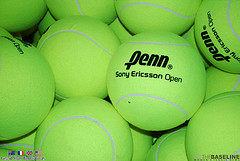tennis ball: (106, 30, 210, 134), (35, 15, 123, 106), (32, 94, 136, 161), (1, 35, 57, 141), (183, 89, 240, 159), (190, 1, 240, 76), (112, 1, 203, 37)
